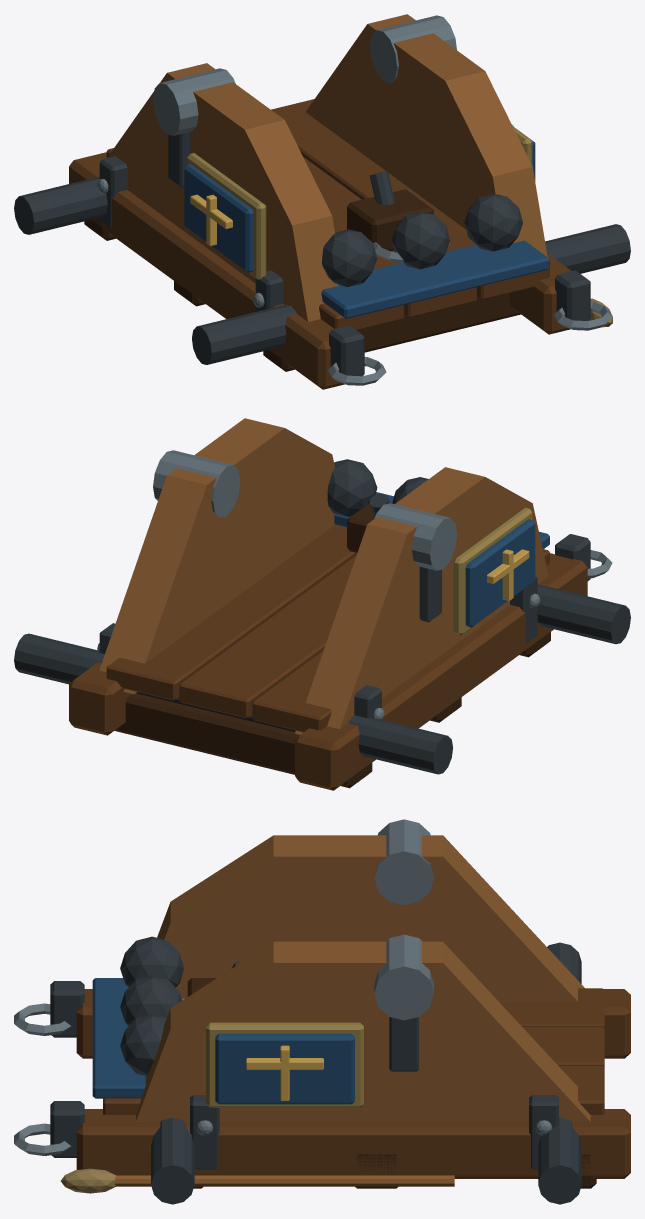
Rendered from Body.glb.
The picture shows the model from 3 angles, top to bottom: view 1: azimuth 30°, elevation 25°; view 2: azimuth 150°, elevation 25°; view 3: azimuth 270°, elevation 25°; orthographic projection. The views are drawn at different scales.
Visible parts, largest first — view 1: Sculpture; view 2: Sculpture; view 3: Sculpture.
Boxes of the visible parts, x1,y1,x2,y2 form: Sculpture: (14, 14, 630, 389); Sculpture: (14, 418, 630, 790); Sculpture: (14, 819, 630, 1204).
Bounding box in the file's own units: 2.3 × 1.09 × 2.69.
